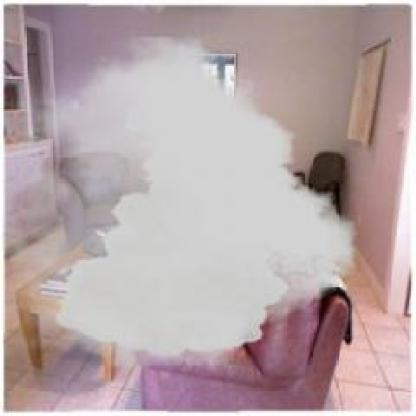Smoke: (2, 37, 357, 372)
